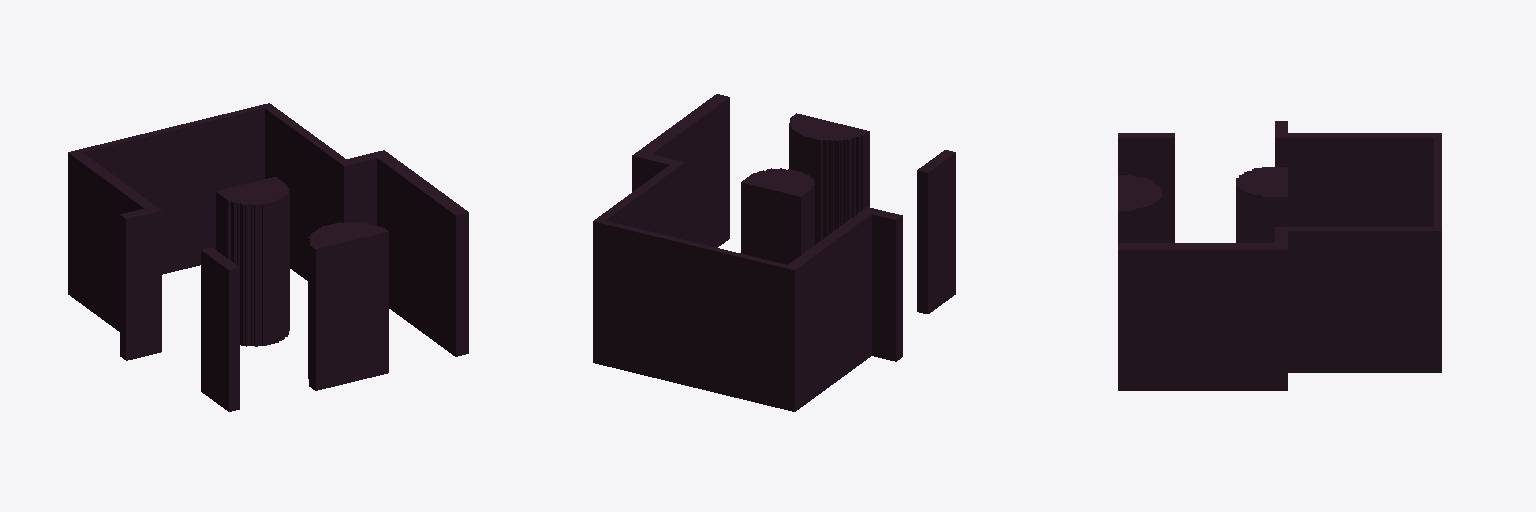
The picture shows the model from 3 angles: view 1: azimuth 30°, elevation 25°; view 2: azimuth 150°, elevation 25°; view 3: azimuth 270°, elevation 25°; orthographic projection.
Parts seen in each view (by area): view 1: object 1; view 2: object 1; view 3: object 1.
Part boxes in pixels (bbox=[...]): object 1: bbox=[68, 103, 468, 411]; object 1: bbox=[593, 94, 955, 411]; object 1: bbox=[1118, 121, 1441, 390].
Size of the model in its own units: 11.9 by 6.1 by 12.6.
1 materials, 1 textured.